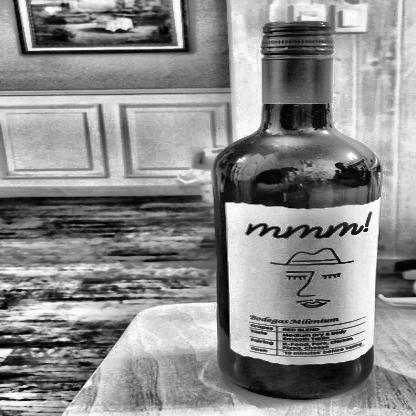umm: (232, 211, 378, 357)
